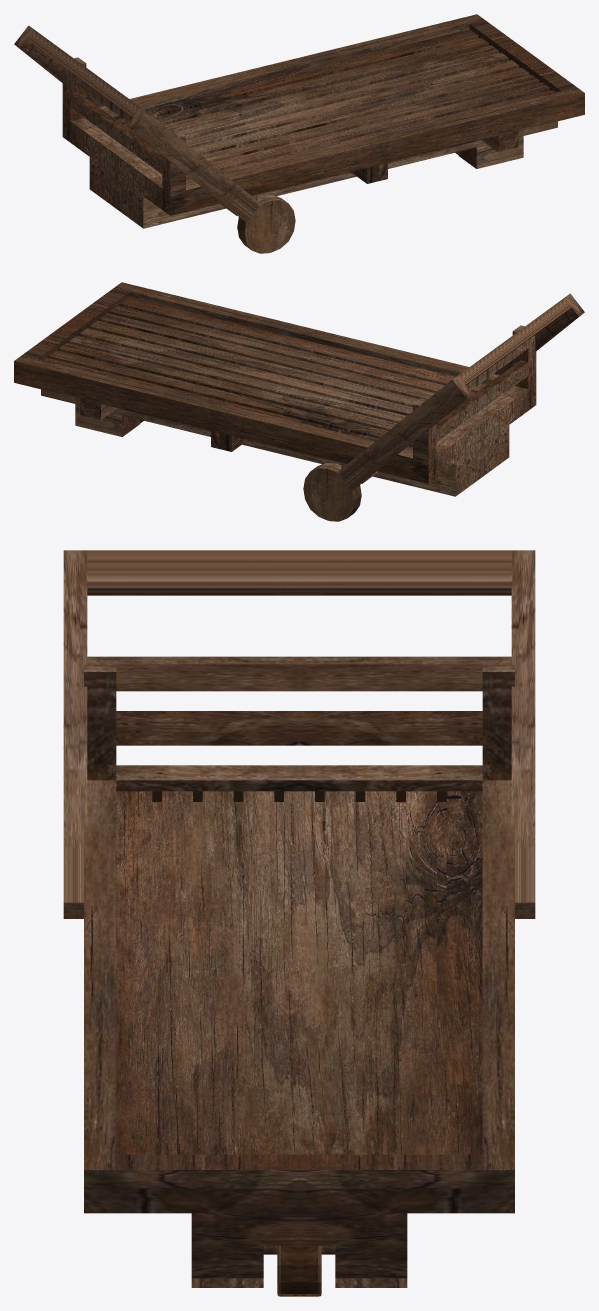
File: wooden cart.fbx
3 renders of one model, top to bottom at view 1: azimuth 30°, elevation 25°; view 2: azimuth 150°, elevation 25°; view 3: azimuth 270°, elevation 25°, orthographic. The views are drawn at different scales.
Visible parts, largest first — view 1: Cube, Cube.002, Cube.001; view 2: Cube, Cube.002, Cube.001; view 3: Cube.002, Cube, Cube.001.
Boxes of the visible parts, box(x1,y1,x2,y2) form: Cube: box(62, 14, 584, 253); Cube.002: box(112, 29, 555, 182); Cube.001: box(14, 25, 260, 222); Cube: box(14, 282, 536, 521); Cube.002: box(43, 297, 486, 450); Cube.001: box(338, 293, 584, 490); Cube.002: box(116, 791, 482, 1154); Cube: box(84, 656, 514, 1296); Cube.001: box(63, 550, 535, 918).
Size of the model in its own units: 442 by 168 by 197.
